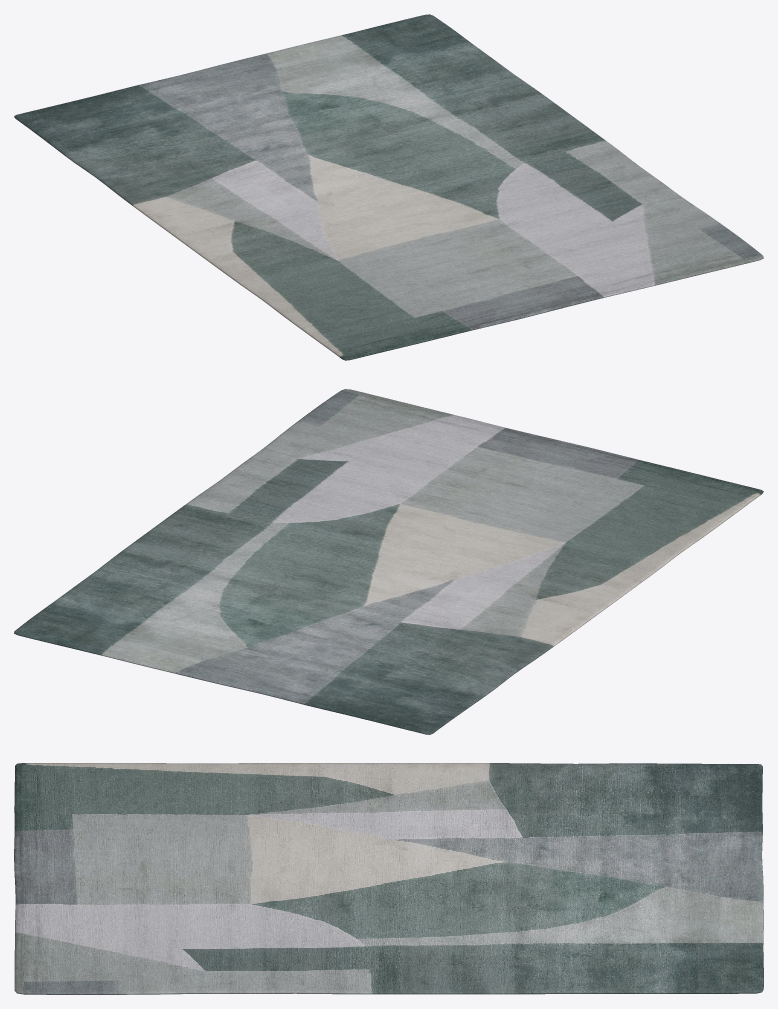
Rendered from 6f9e632b-6a42-4a15-957c-45d7eed2fb35.glb.
The picture shows the model from 3 angles, top to bottom: view 1: azimuth 30°, elevation 25°; view 2: azimuth 150°, elevation 25°; view 3: azimuth 270°, elevation 25°; orthographic projection. The views are drawn at different scales.
Parts seen in each view (by area): view 1: District Spruce RUG; view 2: District Spruce RUG; view 3: District Spruce RUG.
Part boxes in pixels (<box>): District Spruce RUG: <box>14,14,763,360</box>; District Spruce RUG: <box>14,389,763,734</box>; District Spruce RUG: <box>14,763,763,994</box>.
Size of the model in its own units: 2.18 by 0.0108 by 2.99.
1 material, 1 textured.
